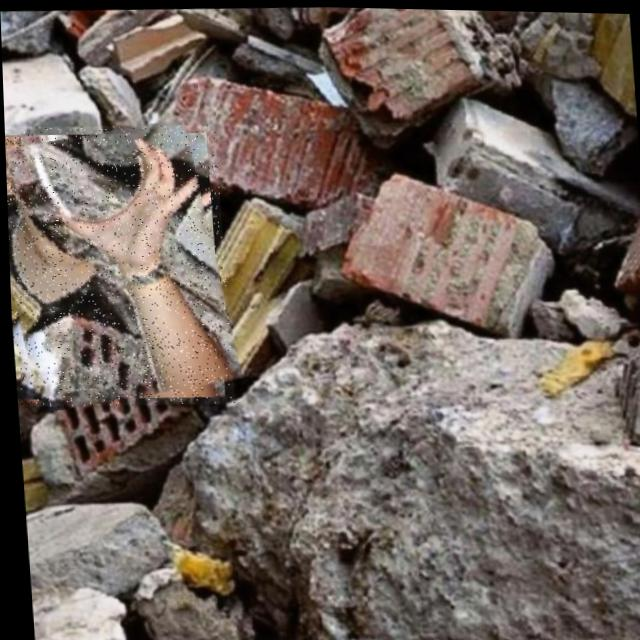Person in Rubble: (3, 120, 232, 410)
